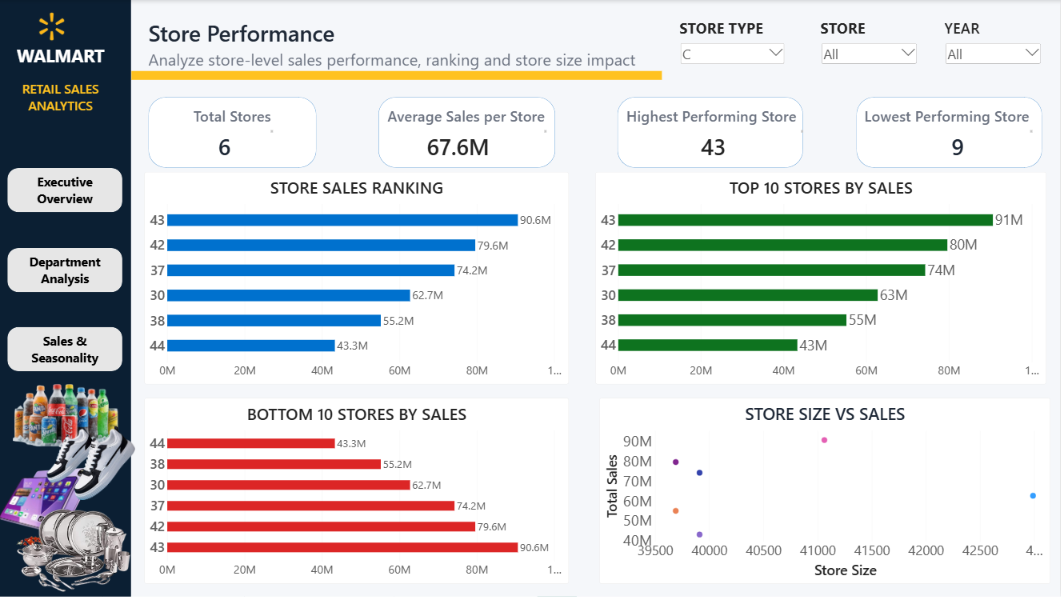

What the dashboard file says about the page in this screenshot:
{"tool":"powerbi","page":{"name":"Store Performance","canvas":[3840,2160],"ordinal":1},"visuals":[{"type":"shape","box":[0,-16,480,2176],"z":0},{"type":"textbox","title":"Store Performance","box":[544,64,1792,224],"z":1000},{"type":"shape","box":[480,256,1920,32],"z":2000},{"type":"shape","box":[544,352,608,256],"z":3000},{"type":"shape","box":[1376,352,640,256],"z":4000},{"type":"shape","box":[2240,352,672,256],"z":5000},{"type":"shape","box":[3104,352,672,256],"z":6000},{"type":"textbox","title":"Total Stores","box":[704,384,288,96],"z":7000},{"type":"textbox","title":"Average Sales per Store","box":[1408,384,576,96],"z":8000},{"type":"textbox","title":"Highest Performing Store","box":[2272,384,640,96],"z":9000},{"type":"textbox","title":"Lowest Performing Store","box":[3136,384,608,96],"z":10000},{"type":"cardVisual","fields":{"Data":["Walmart_Sales.Total Stores"]},"box":[704,480,224,96],"z":11000},{"type":"cardVisual","fields":{"Data":["Walmart_Sales.Average Sales per Store"]},"box":[1536,480,416,96],"z":12000},{"type":"cardVisual","fields":{"Data":["Walmart_Sales.Highest Performing Store"]},"box":[2528,480,128,96],"z":13000},{"type":"cardVisual","fields":{"Data":["Walmart_Sales.Lowest Performing Store"]},"box":[3392,448,160,160],"z":14000},{"type":"slicer","title":"STORE TYPE","fields":{"Values":["Walmart_Sales.type"]},"box":[2464,64,384,192],"z":15000},{"type":"slicer","title":"STORE","fields":{"Values":["Walmart_Sales.store"]},"box":[2976,64,352,192],"z":16000},{"type":"slicer","title":"YEAR","fields":{"Values":["DateTable.Year"]},"box":[3424,64,352,192],"z":17000},{"type":"clusteredBarChart","title":"STORE SALES RANKING","fields":{"Category":["Walmart_Sales.store"],"Y":["Walmart_Sales.Store Total Sales"]},"box":[528,624,1536,768],"z":18000},{"type":"clusteredBarChart","title":"TOP 10 STORES BY SALES","fields":{"Category":["Walmart_Sales.store"],"Y":["Walmart_Sales.Store Total Sales"]},"box":[2160,624,1632,768],"z":19000},{"type":"clusteredBarChart","title":"BOTTOM 10 STORES BY SALES","fields":{"Category":["Walmart_Sales.store"],"Y":["Walmart_Sales.Store Total Sales"]},"box":[528,1440,1536,672],"z":20000},{"type":"scatterChart","title":"STORE SIZE VS SALES","fields":{"X":["Walmart_Sales.size"],"Y":["Walmart_Sales.Store Total Sales"],"Series":["Walmart_Sales.store"]},"box":[2176,1440,1632,672],"z":21000},{"type":"actionButton","box":[32,896,416,160],"z":22000},{"type":"actionButton","box":[32,1184,416,160],"z":23000},{"type":"image","box":[32,1376,430.7,260.6],"z":25000},{"type":"image","box":[0,1536,352,512],"z":26000},{"type":"image","box":[160,1504,354.7,304],"z":27000},{"type":"image","box":[64,1840,416,320],"z":28000},{"type":"actionButton","box":[32,608,416,160],"z":29000},{"type":"image","box":[64,0,256,192],"z":31000},{"type":"textbox","title":"WALMART","box":[64,160,320,96],"z":32000},{"type":"textbox","title":"RETAIL SALES ANALYTICS","box":[32,288,384,128],"z":33000}]}

Visuals, with their boxes in screenshot pixels (x1, y1, x2, y2), scaled from the page's 3840x2160 canvas onto the 1061x597 screenshot:
shape: BBox(0, 0, 133, 596)
"Store Performance" textbox: BBox(150, 18, 645, 80)
shape: BBox(133, 71, 663, 80)
shape: BBox(150, 97, 318, 168)
shape: BBox(380, 97, 557, 168)
shape: BBox(619, 97, 805, 168)
shape: BBox(858, 97, 1043, 168)
"Total Stores" textbox: BBox(195, 106, 274, 133)
"Average Sales per Store" textbox: BBox(389, 106, 548, 133)
"Highest Performing Store" textbox: BBox(628, 106, 805, 133)
"Lowest Performing Store" textbox: BBox(866, 106, 1034, 133)
cardVisual - Walmart_Sales.Total Stores: BBox(195, 133, 256, 159)
cardVisual - Walmart_Sales.Average Sales per Store: BBox(424, 133, 539, 159)
cardVisual - Walmart_Sales.Highest Performing Store: BBox(698, 133, 734, 159)
cardVisual - Walmart_Sales.Lowest Performing Store: BBox(937, 124, 981, 168)
"STORE TYPE" slicer: BBox(681, 18, 787, 71)
"STORE" slicer: BBox(822, 18, 920, 71)
"YEAR" slicer: BBox(946, 18, 1043, 71)
"STORE SALES RANKING" clusteredBarChart: BBox(146, 172, 570, 385)
"TOP 10 STORES BY SALES" clusteredBarChart: BBox(597, 172, 1048, 385)
"BOTTOM 10 STORES BY SALES" clusteredBarChart: BBox(146, 398, 570, 584)
"STORE SIZE VS SALES" scatterChart: BBox(601, 398, 1052, 584)
actionButton: BBox(9, 248, 124, 292)
actionButton: BBox(9, 327, 124, 371)
image: BBox(9, 380, 128, 452)
image: BBox(0, 425, 97, 566)
image: BBox(44, 416, 142, 500)
image: BBox(18, 509, 133, 596)
actionButton: BBox(9, 168, 124, 212)
image: BBox(18, 0, 88, 53)
"WALMART" textbox: BBox(18, 44, 106, 71)
"RETAIL SALES ANALYTICS" textbox: BBox(9, 80, 115, 115)
